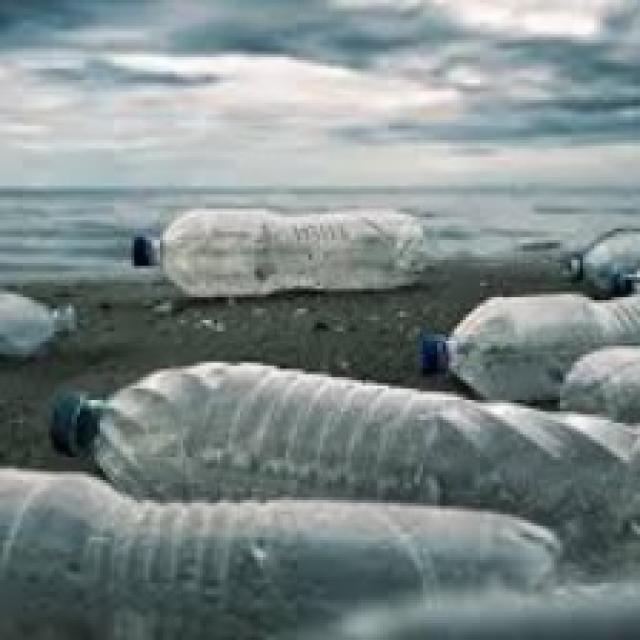plastic_bottle: (59, 355, 640, 513), (131, 505, 572, 635), (119, 203, 441, 311), (415, 280, 561, 404), (559, 220, 640, 303), (1, 295, 81, 361)
